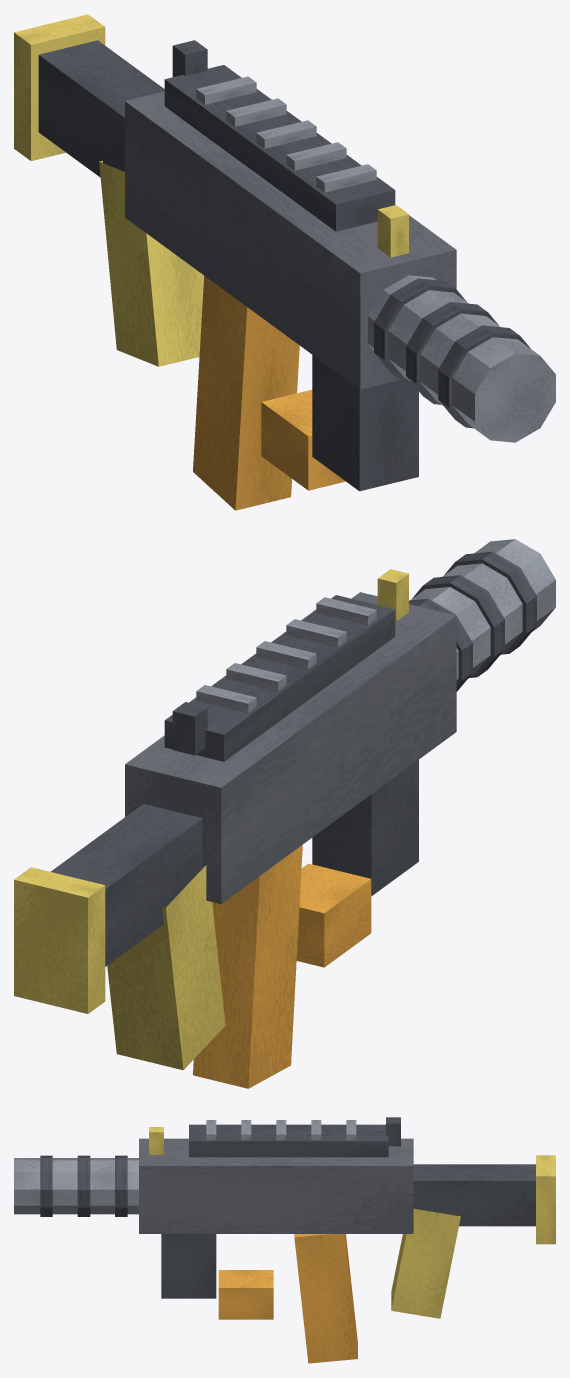
File: weapon_smg.glb
The picture shows the model from 3 angles, top to bottom: view 1: azimuth 30°, elevation 25°; view 2: azimuth 150°, elevation 25°; view 3: azimuth 270°, elevation 25°; orthographic projection. The views are drawn at different scales.
Visible parts, largest first — view 1: weapon_smg; view 2: weapon_smg; view 3: weapon_smg.
Part boxes in pixels (bbox=[...]): weapon_smg: bbox=[14, 14, 555, 510]; weapon_smg: bbox=[14, 539, 555, 1088]; weapon_smg: bbox=[14, 1117, 555, 1363].
Bounding box in the file's own units: 0.26 × 1.04 × 2.17.
1 material, 1 textured.
